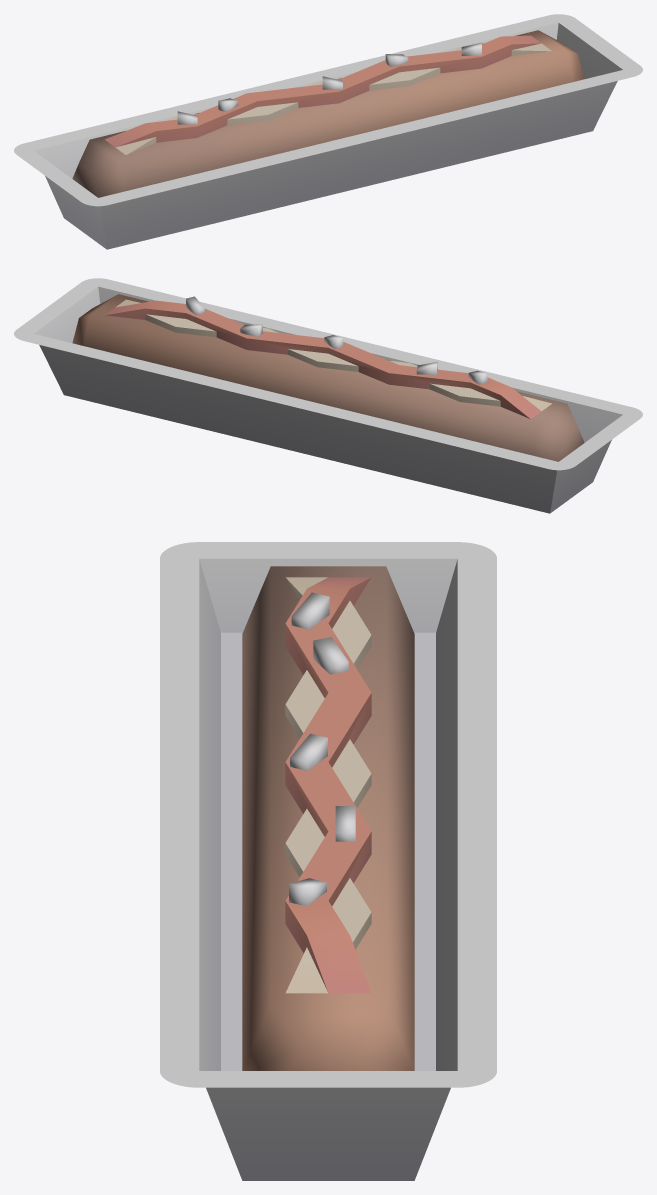
File: frikandel-speciaal.glb
The picture shows the model from 3 angles, top to bottom: view 1: azimuth 30°, elevation 25°; view 2: azimuth 150°, elevation 25°; view 3: azimuth 270°, elevation 25°; orthographic projection. The views are drawn at different scales.
Visible parts, largest first — view 1: frikandel-speciaal; view 2: frikandel-speciaal; view 3: frikandel-speciaal.
Part boxes in pixels (x1,y1,x2,y2): frikandel-speciaal: (14, 14, 642, 249); frikandel-speciaal: (14, 278, 642, 513); frikandel-speciaal: (160, 542, 496, 1180).
Size of the model in its own units: 0.636 by 0.1087 by 0.1661.
